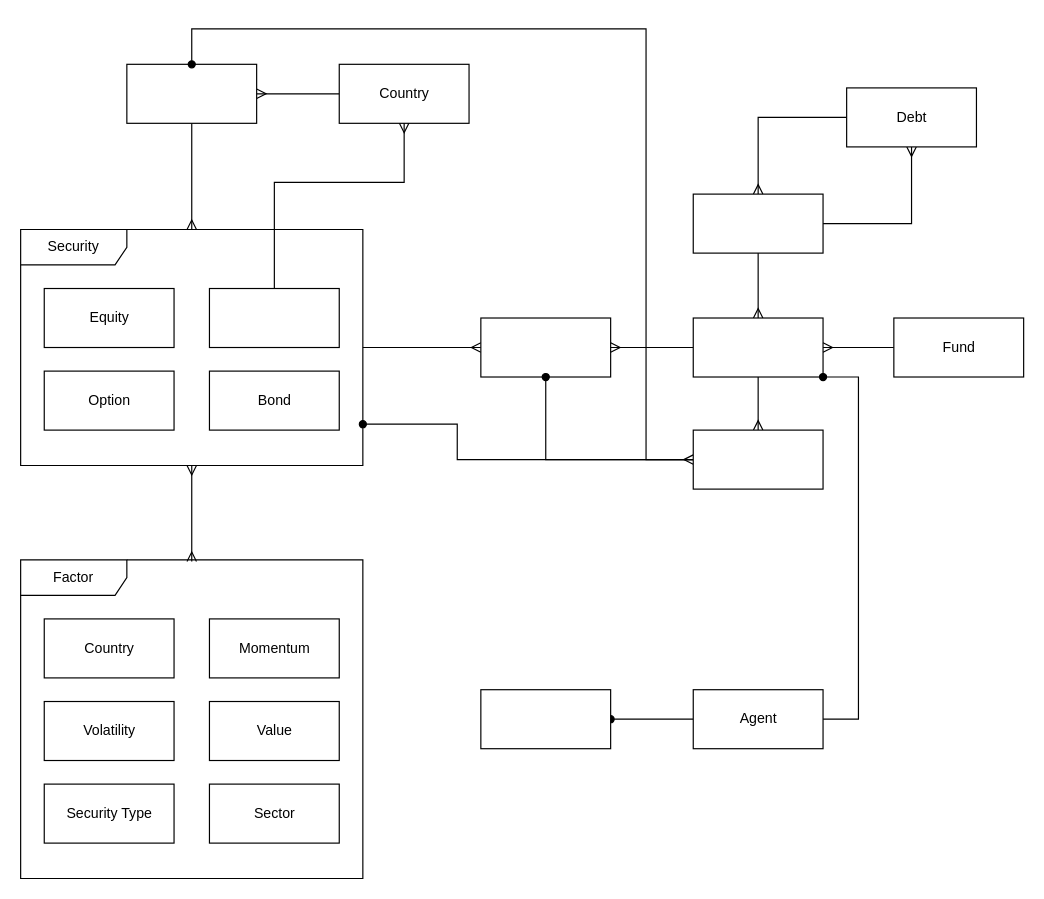
Some shapes in this 1044 by 899 pixel diagram are drawn without their labels. The centre of each missing label's shape, as x and y in pixels:
Book: the point at 757,347
Currency: the point at 273,317
Exchange: the point at 191,93
Order: the point at 757,459
Player: the point at 757,223
Position: the point at 545,347
Strategy: the point at 545,719
